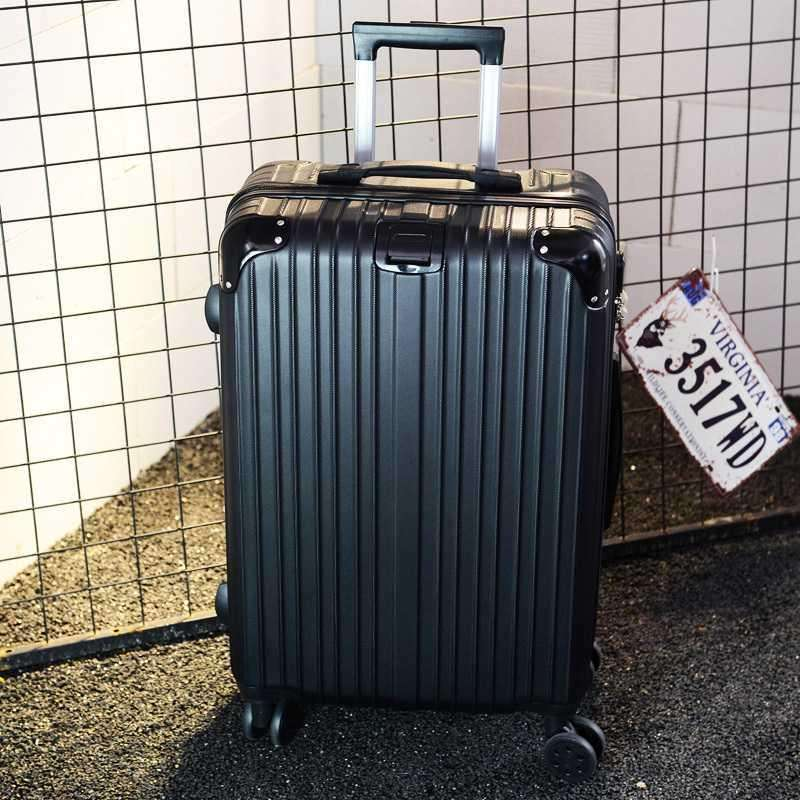box: (218, 161, 616, 715)
handle: (319, 161, 522, 195)
wheel: (542, 716, 605, 781), (241, 700, 294, 748)
